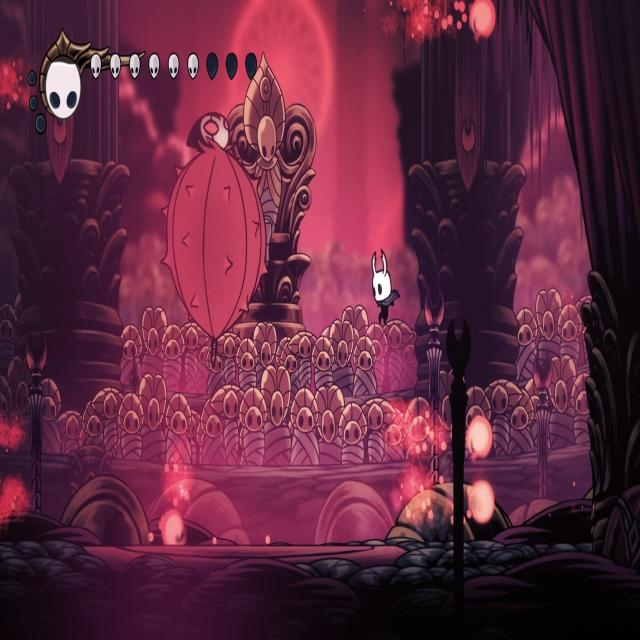Player: (369, 245, 402, 330)
Pufferfish: (155, 104, 267, 367)
Tiny Fireballs: (469, 480, 494, 524), (466, 416, 491, 460), (469, 0, 495, 39), (162, 510, 185, 548)
